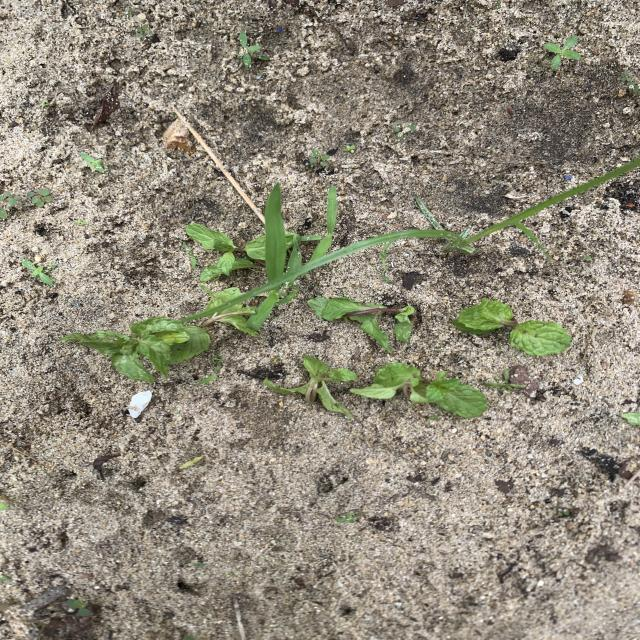crop: (61, 317, 191, 382), (350, 363, 488, 418), (452, 298, 571, 356), (308, 297, 415, 353), (263, 356, 357, 419), (170, 303, 258, 364), (185, 223, 266, 282), (201, 284, 241, 311), (285, 232, 302, 257)
weed: (184, 159, 640, 320), (299, 186, 337, 260), (247, 282, 298, 330), (265, 183, 287, 285), (544, 35, 581, 70), (237, 31, 269, 67), (485, 369, 524, 395), (21, 259, 56, 286), (379, 243, 400, 284), (25, 189, 54, 208), (618, 70, 640, 95), (80, 153, 106, 174), (197, 365, 224, 385), (64, 598, 92, 617), (289, 234, 302, 271), (176, 456, 205, 472), (393, 121, 417, 140), (181, 242, 197, 270), (309, 150, 331, 169), (0, 191, 22, 208), (136, 26, 159, 42), (335, 512, 360, 523), (344, 144, 356, 154), (74, 220, 87, 226)
